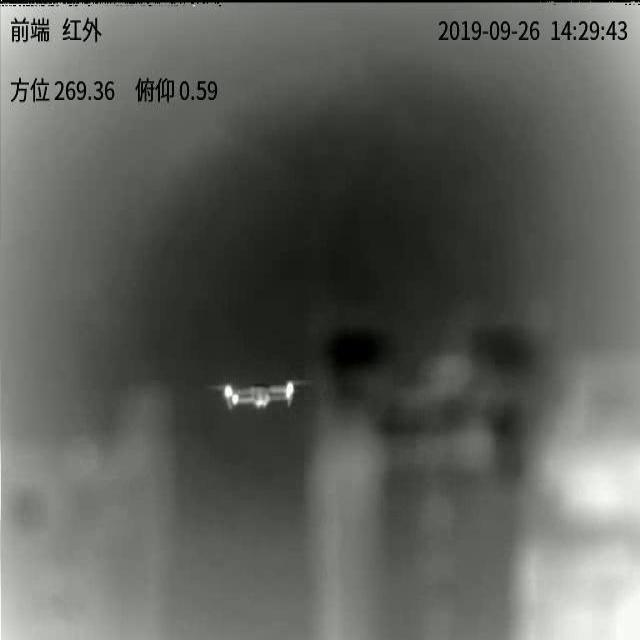drone: (210, 380, 304, 411)
